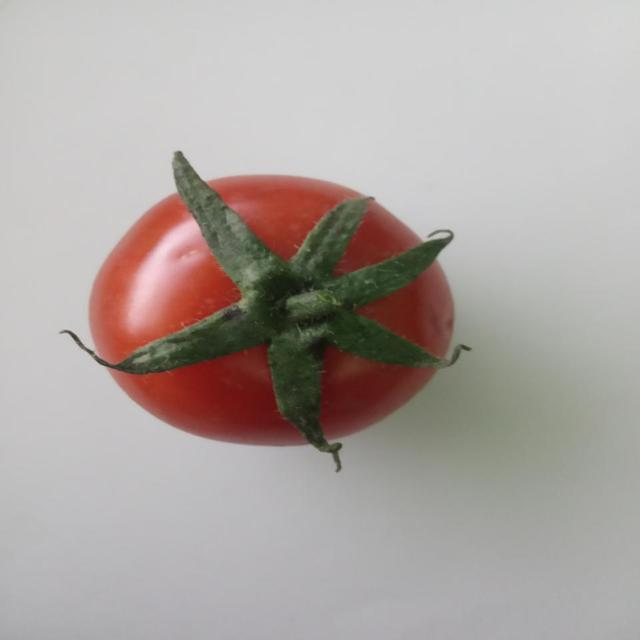Healthy Fruit: (55, 112, 307, 300)
